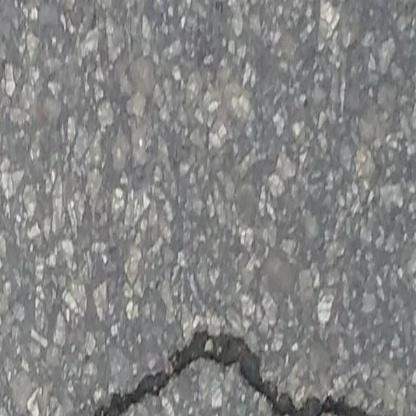Cracks: (80, 333, 416, 416)
